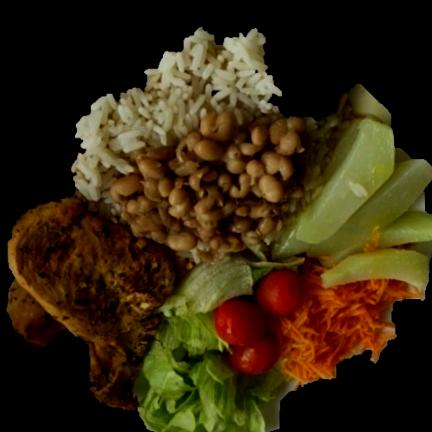beans: (111, 112, 306, 263)
carrot: (272, 260, 421, 386)
chicken: (7, 199, 176, 409)
green_vegetables: (217, 119, 432, 291)
rice: (73, 30, 281, 223)
salad: (137, 257, 287, 432)
tomato: (214, 271, 304, 374)
